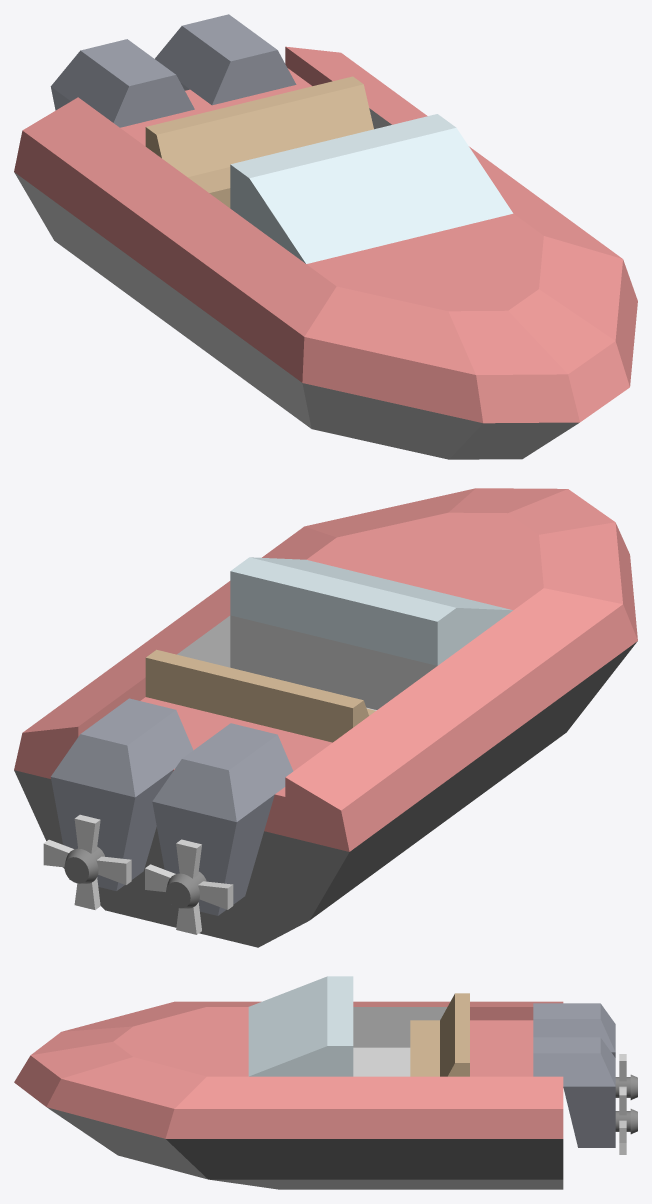
The model's file is watercraftPack_020.glb.
The picture shows the model from 3 angles, top to bottom: view 1: azimuth 30°, elevation 25°; view 2: azimuth 150°, elevation 25°; view 3: azimuth 270°, elevation 25°; orthographic projection. The views are drawn at different scales.
Parts seen in each view (by area): view 1: Mesh5 Group1 Model, Mesh4 Group5 Group1 Model, Mesh3 Group4 Group1 Model; view 2: Mesh5 Group1 Model, Mesh3 Group4 Group1 Model, Mesh4 Group5 Group1 Model, Mesh2 Group3 Group1 Model, Mesh1 Group2 Group1 Model; view 3: Mesh5 Group1 Model, Mesh4 Group5 Group1 Model, Mesh3 Group4 Group1 Model, Mesh1 Group2 Group1 Model.
Boxes of the visible parts, left/top/right/bottom form: Mesh5 Group1 Model: left=14, top=46, right=637, bottom=459; Mesh4 Group5 Group1 Model: left=155, top=14, right=296, bottom=105; Mesh3 Group4 Group1 Model: left=50, top=39, right=194, bottom=127; Mesh5 Group1 Model: left=14, top=488, right=637, bottom=947; Mesh3 Group4 Group1 Model: left=152, top=723, right=293, bottom=915; Mesh4 Group5 Group1 Model: left=51, top=698, right=193, bottom=890; Mesh2 Group3 Group1 Model: left=145, top=839, right=233, bottom=934; Mesh1 Group2 Group1 Model: left=43, top=814, right=131, bottom=909; Mesh5 Group1 Model: left=14, top=976, right=563, bottom=1189; Mesh4 Group5 Group1 Model: left=533, top=1037, right=637, bottom=1147; Mesh3 Group4 Group1 Model: left=533, top=1003, right=637, bottom=1099; Mesh1 Group2 Group1 Model: left=619, top=1088, right=626, bottom=1154.
Bounding box in the file's own units: 1.78 × 1.12 × 4.17.
